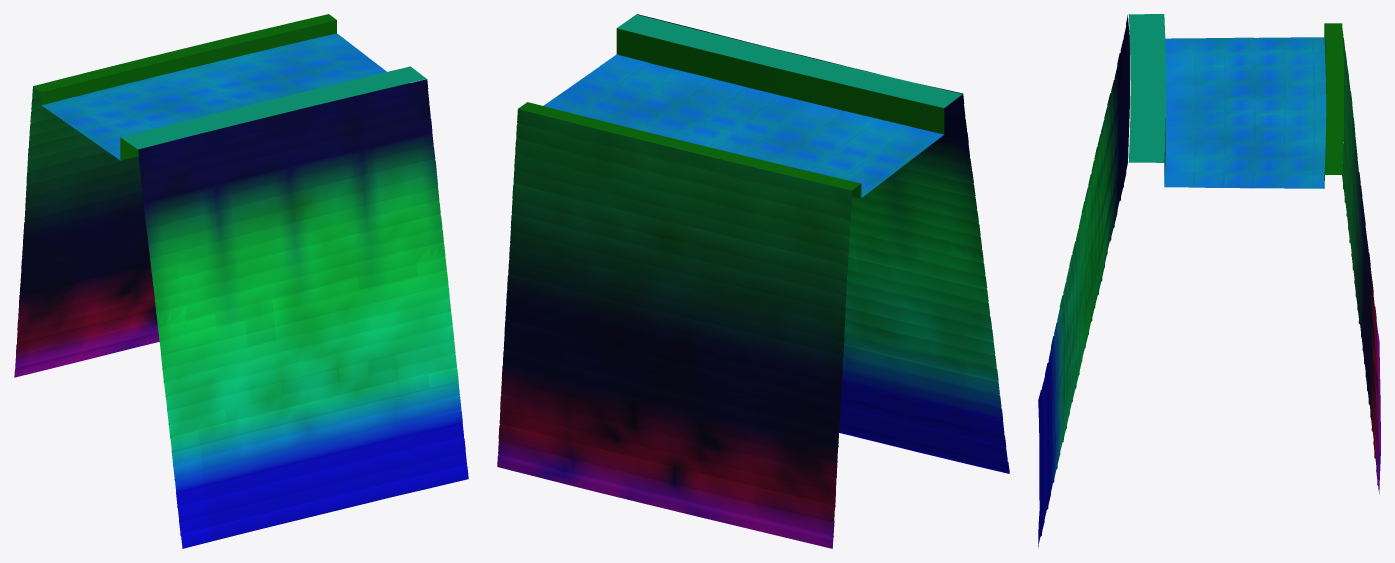
The model's file is seawall_curve.glb.
3 views of the same model, side by side, from view 1: azimuth 30°, elevation 25°; view 2: azimuth 150°, elevation 25°; view 3: azimuth 270°, elevation 25° (orthographic). The views are drawn at different scales.
Parts seen in each view (by area): view 1: seawall_curve; view 2: seawall_curve; view 3: seawall_curve.
Boxes of the visible parts, bbox=[...] form: seawall_curve: bbox=[14, 14, 468, 548]; seawall_curve: bbox=[497, 14, 1009, 548]; seawall_curve: bbox=[1038, 14, 1380, 547].
Size of what is drawn, in the model's own units: 12.17 by 14.41 by 11.56.
